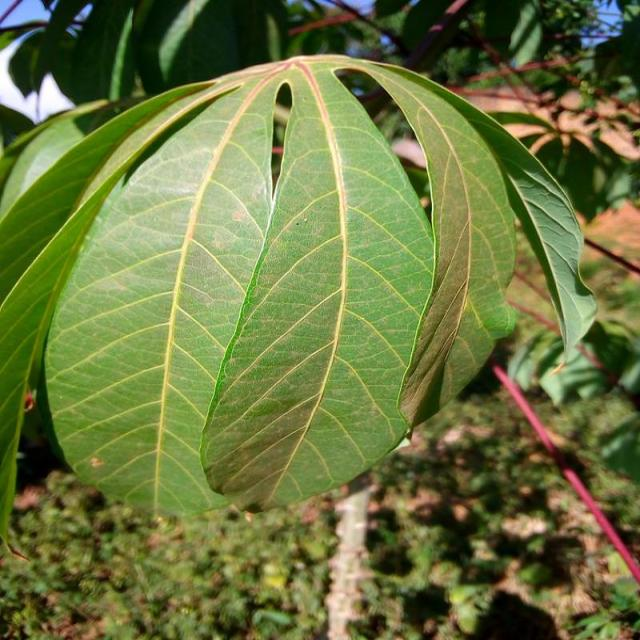cassava leaf: (2, 52, 595, 530), (198, 57, 436, 514)
